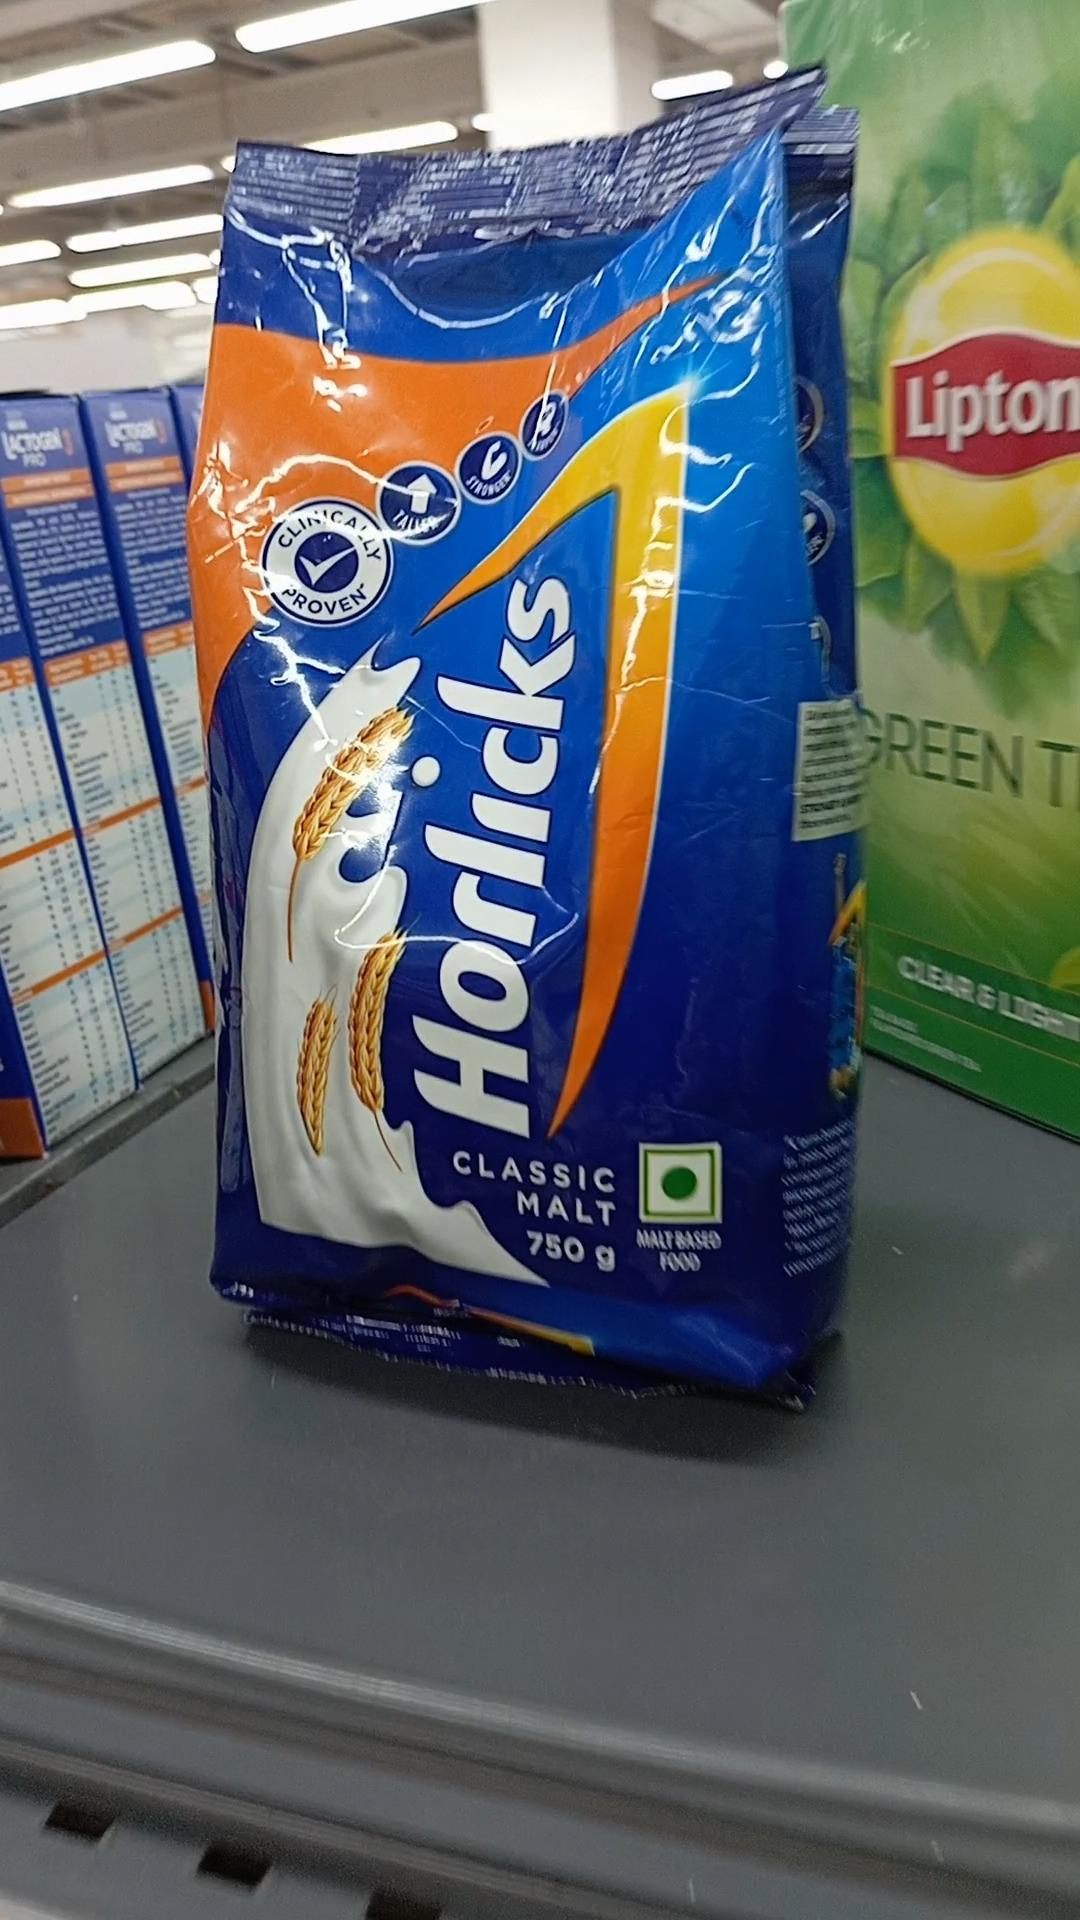HORLICK_CLASSIC_MALT_750_G_POUCH: (175, 115, 876, 1390)
